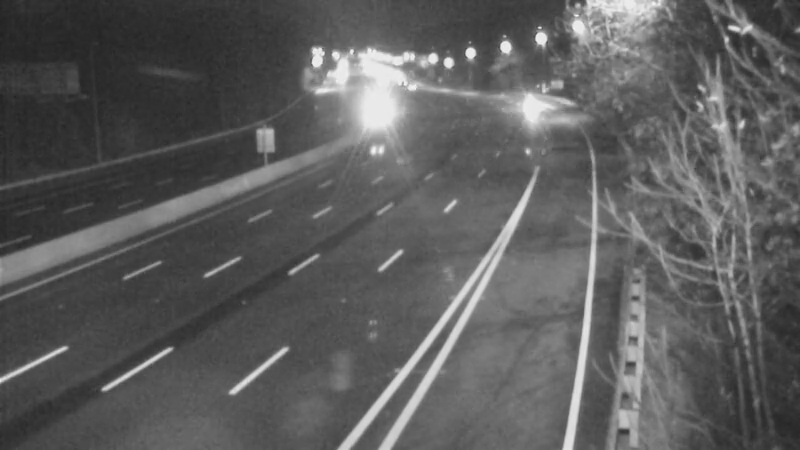vehicle: (383, 59, 433, 109), (506, 80, 556, 130), (353, 86, 403, 136)
